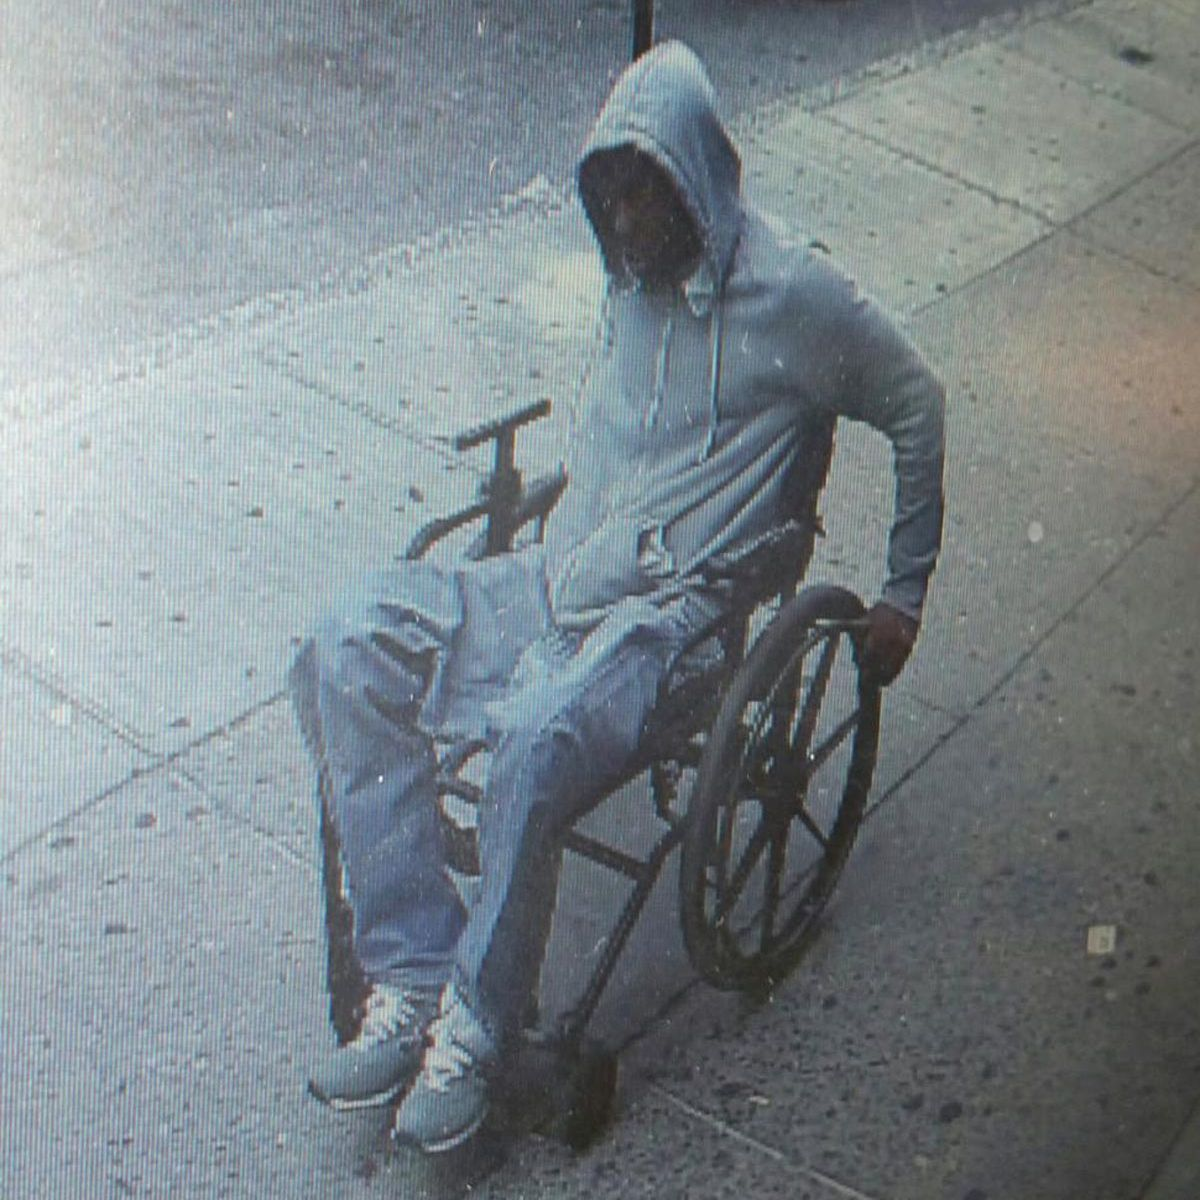wheelchair: (284, 33, 943, 1151)
